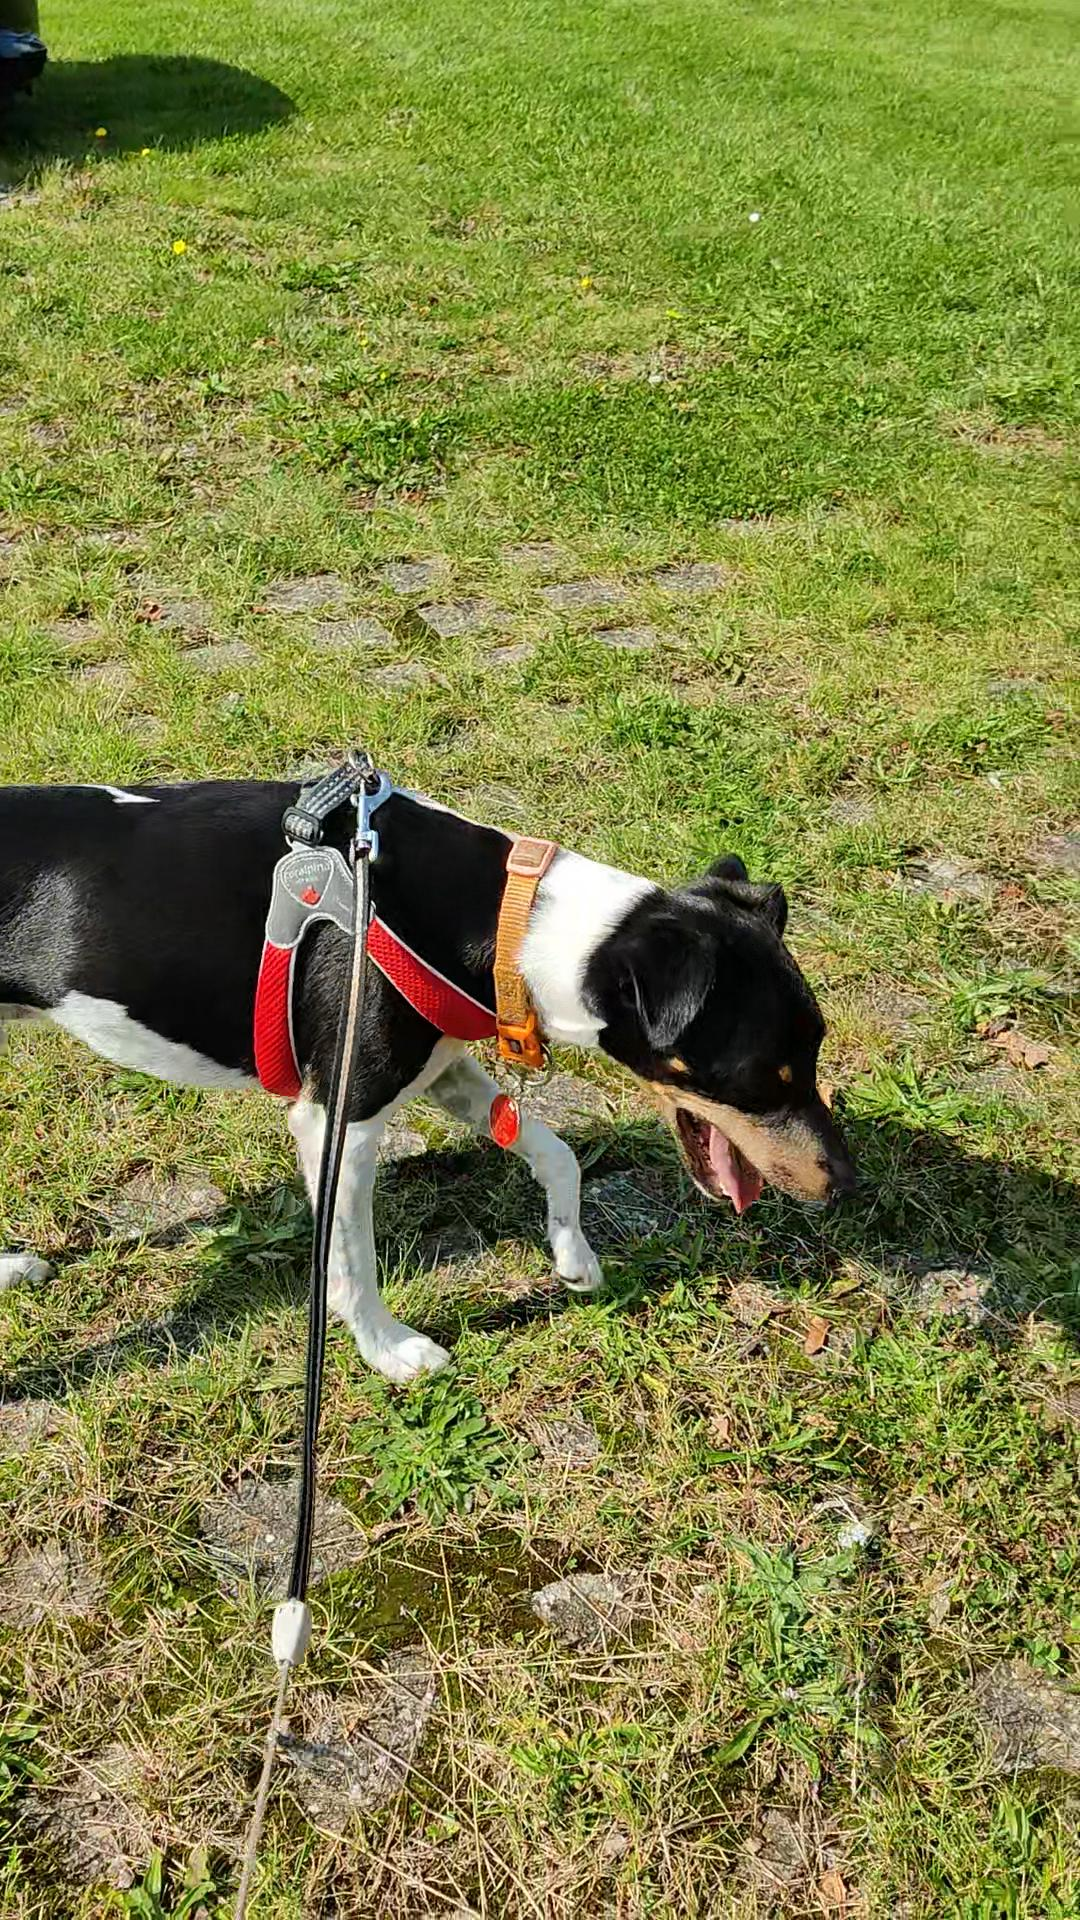Dog: (0, 724, 894, 1408)
